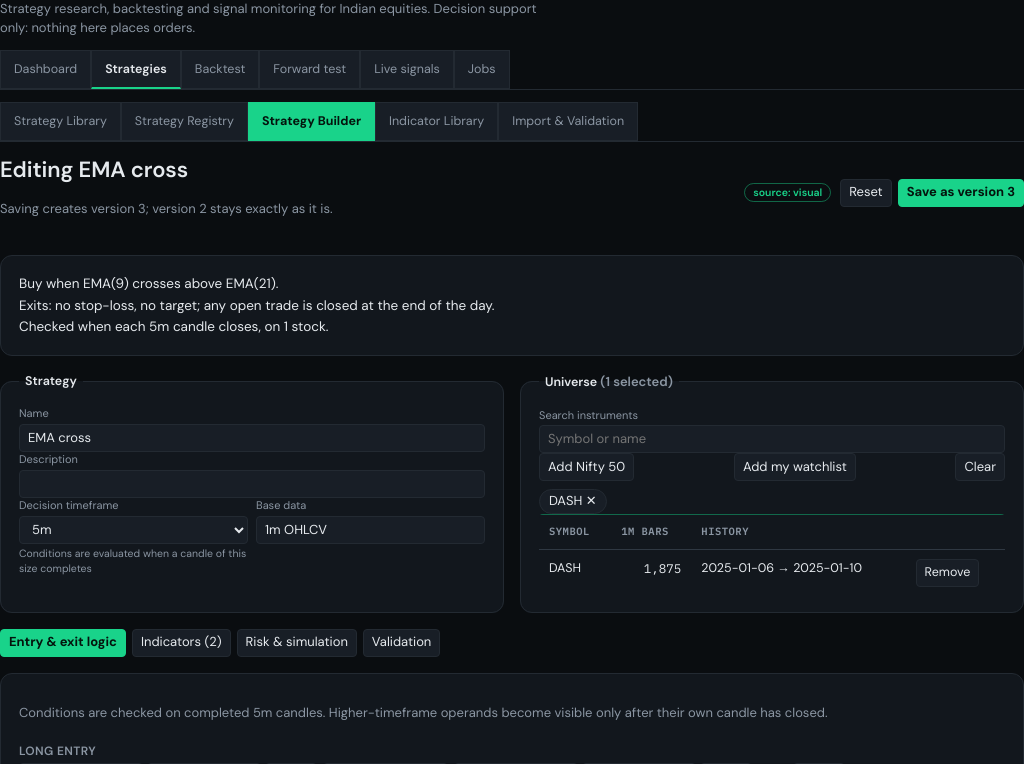
Signals workspace › editing an existing strategy saves a NEW version and says earlier versions are untouched
Earlier steps of the test are not shown.
Check: the heading "Editing EMA cross" is shown, box x1=0 y1=155 x2=188 y2=184
Check: the text "Saving creates version 3; version 2 stays exactly as it is." is shown, box x1=0 y1=199 x2=333 y2=218
Click the button "Save as version 3" at (961,193), box x1=898 y1=179 x2=1023 y2=207
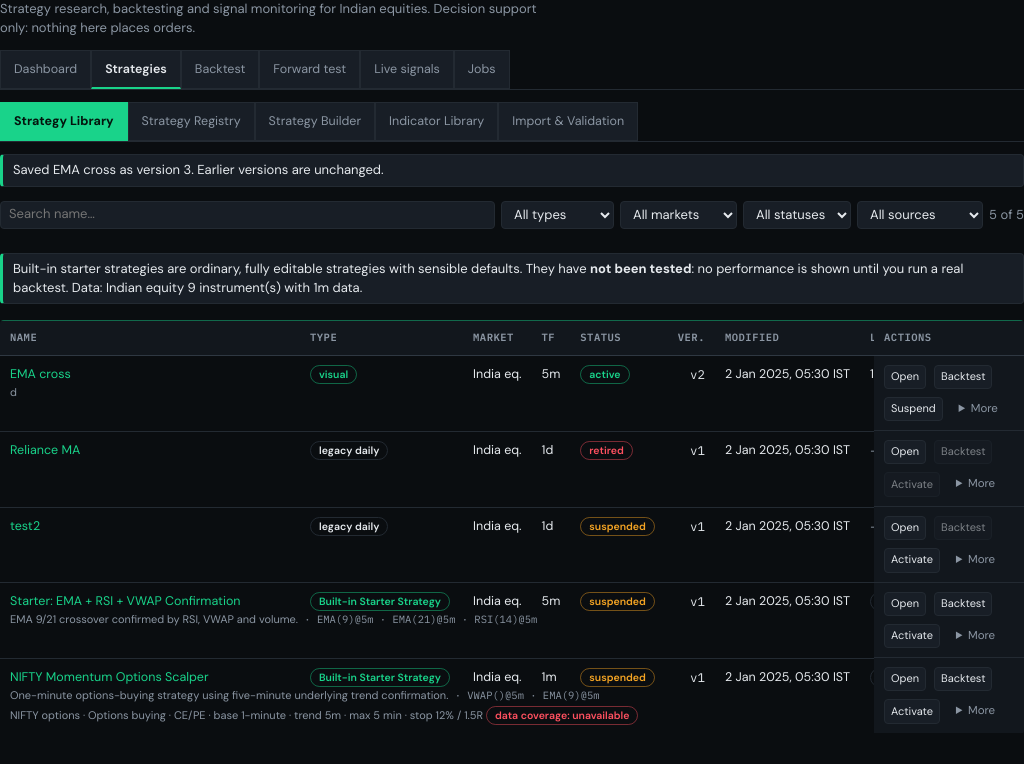
Check: the text "Saved EMA cross as version 3. Earlier versions are unchanged." is shown, box x1=0 y1=154 x2=1023 y2=187
